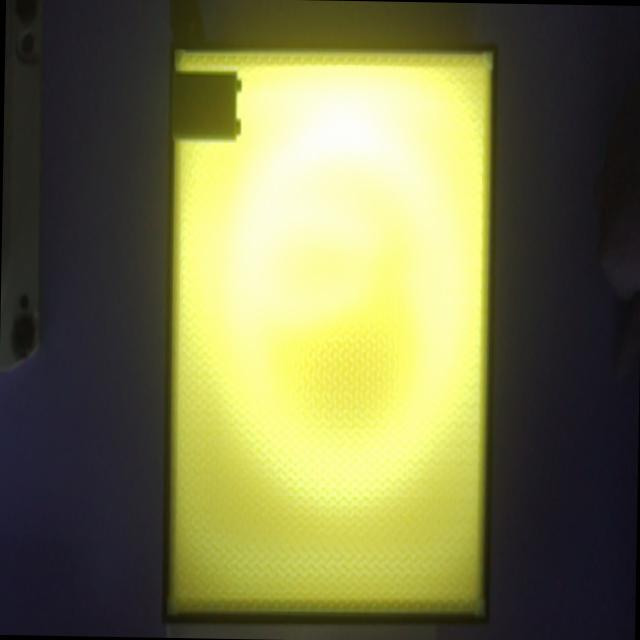bateria: (173, 72, 240, 142)
mesa: (161, 38, 498, 625)
